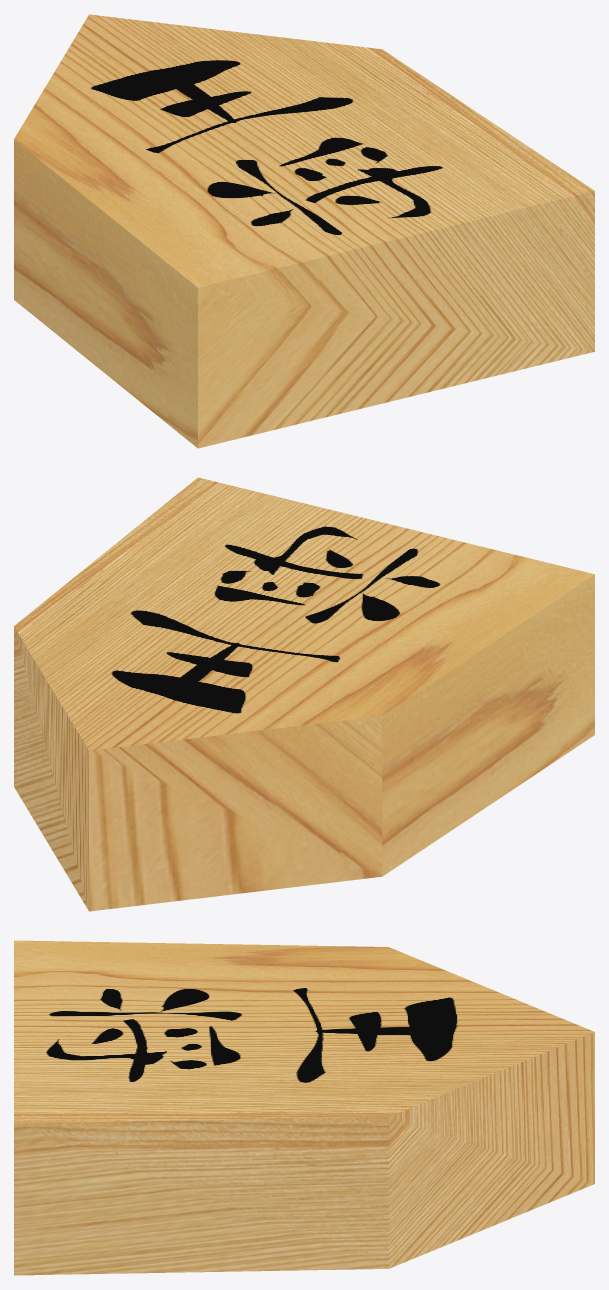
The model's file is koma_ohsho.gltf.
3 renders of one model, top to bottom at view 1: azimuth 30°, elevation 25°; view 2: azimuth 150°, elevation 25°; view 3: azimuth 270°, elevation 25°, orthographic. The views are drawn at different scales.
Parts seen in each view (by area): view 1: Cylinder; view 2: Cylinder; view 3: Cylinder.
Part boxes in pixels (x1,y1,x2,y2): Cylinder: [14, 14, 594, 448]; Cylinder: [14, 477, 594, 911]; Cylinder: [14, 940, 594, 1275].
Size of the model in its own units: 1.29 by 0.5 by 1.73.
Materials: 1 (1 with a texture image).
